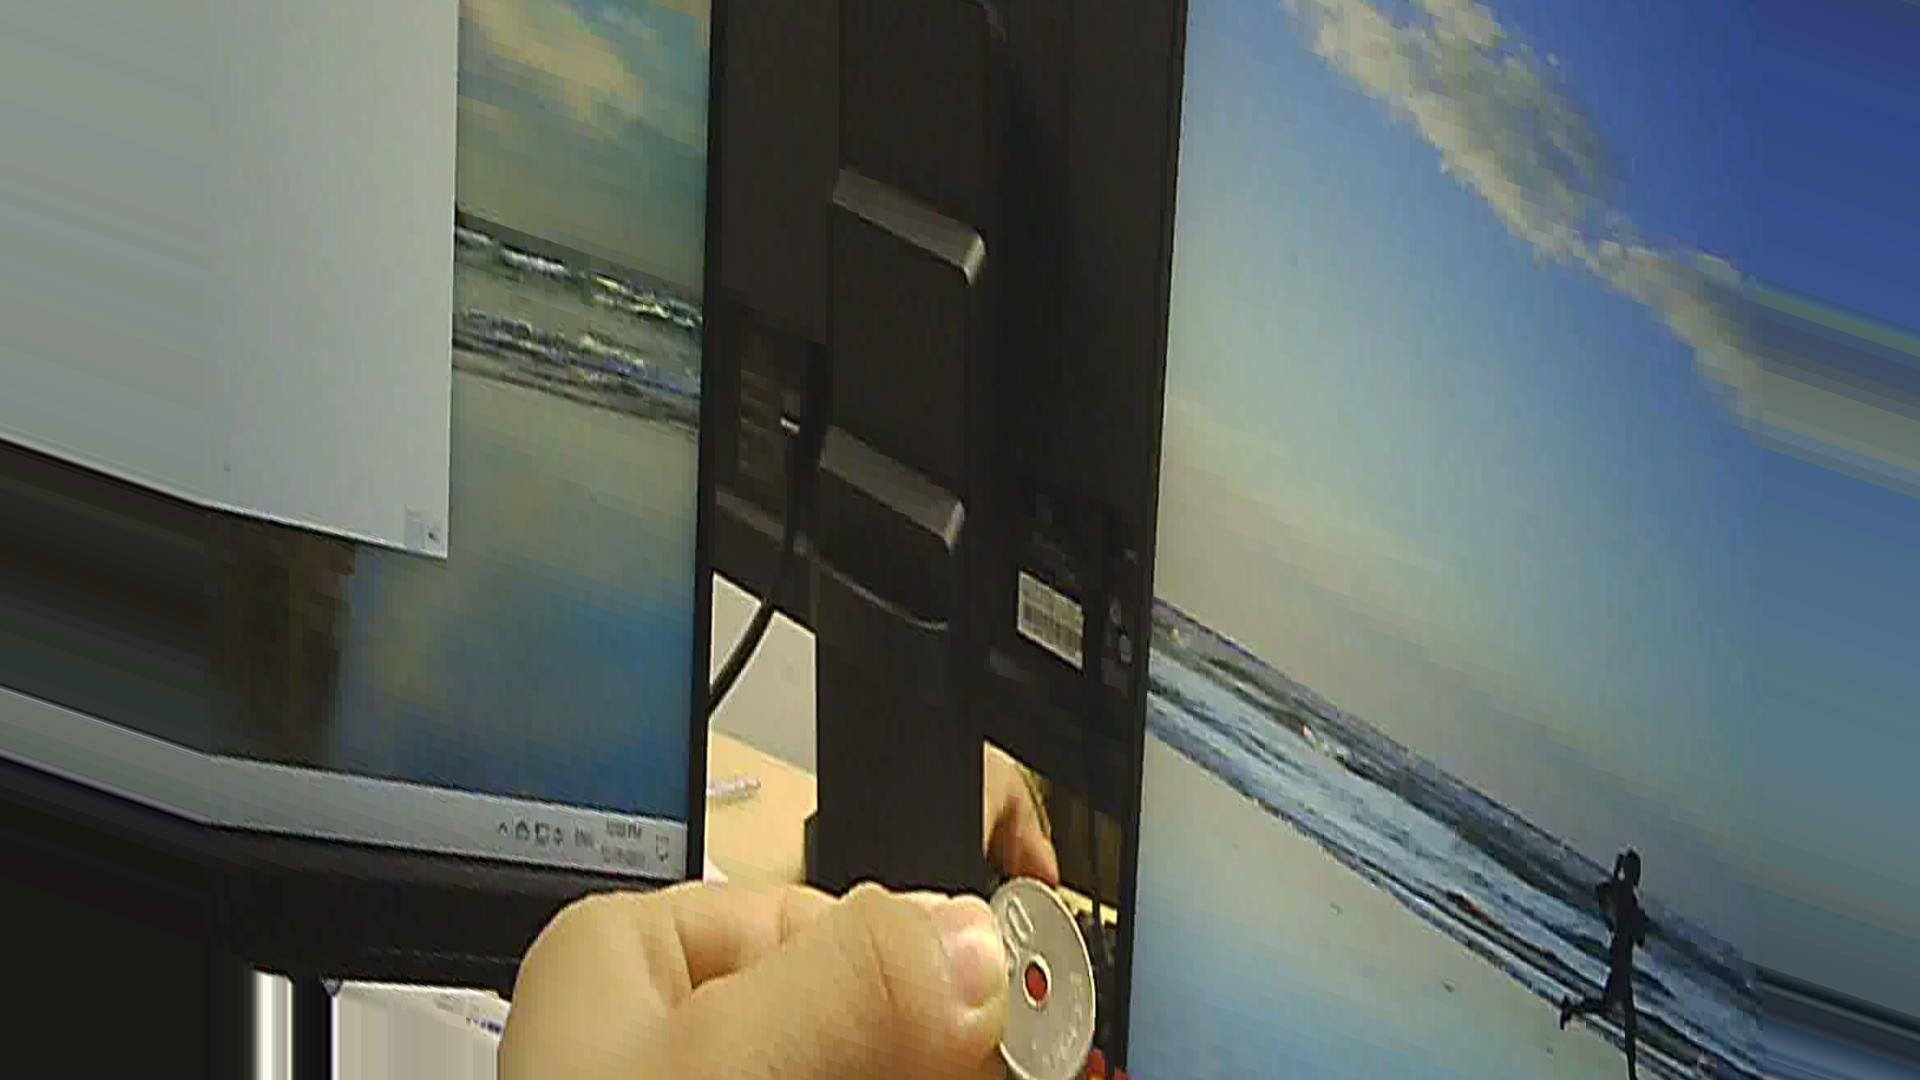50 Yen: (959, 865, 1109, 1079)
